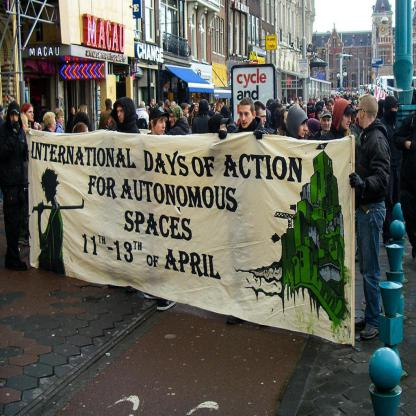face: (240, 108, 253, 129), (341, 110, 352, 130), (296, 120, 308, 138), (154, 119, 166, 136), (257, 112, 267, 128), (10, 109, 20, 124), (118, 107, 127, 123), (390, 104, 399, 119), (322, 116, 331, 130), (170, 112, 178, 126), (285, 114, 293, 127), (26, 109, 34, 122), (360, 102, 363, 126), (51, 119, 57, 130), (59, 115, 65, 125), (329, 103, 335, 112), (318, 112, 323, 120), (185, 108, 190, 116), (84, 109, 88, 117), (322, 105, 326, 112), (72, 108, 76, 115), (195, 106, 199, 112), (219, 107, 222, 112), (214, 104, 217, 109), (149, 111, 152, 116), (163, 104, 165, 110), (153, 101, 155, 106), (223, 103, 225, 107)
